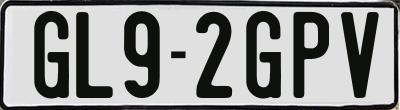2: (196, 12, 235, 104)
9: (122, 10, 161, 98)
G: (32, 8, 72, 97), (244, 10, 282, 100)
L: (76, 12, 119, 98)
P: (291, 11, 329, 102)
V: (341, 11, 381, 101)
